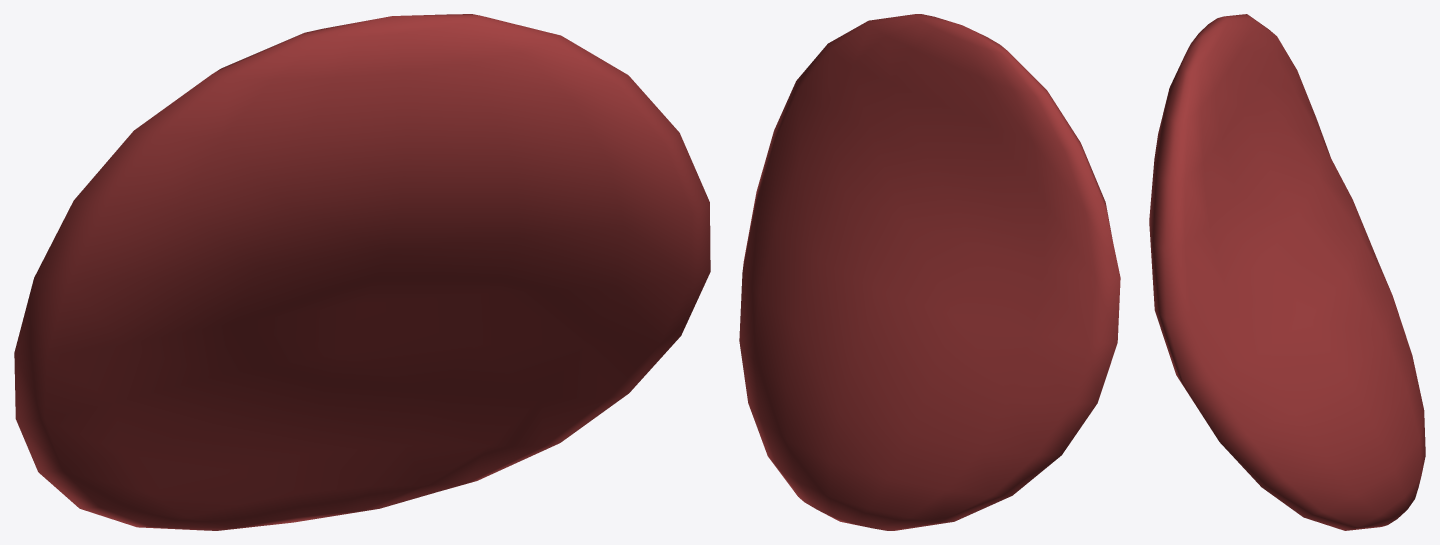
File: subtendinous-bursa-of-triceps-brachii-muscle-r.glb
3 views of the same model, side by side, from view 1: azimuth 30°, elevation 25°; view 2: azimuth 150°, elevation 25°; view 3: azimuth 270°, elevation 25° (orthographic). The views are drawn at different scales.
Visible parts, largest first — view 1: Subtendinous bursa of triceps brachii muscle.r; view 2: Subtendinous bursa of triceps brachii muscle.r; view 3: Subtendinous bursa of triceps brachii muscle.r.
Part boxes in pixels (x1,y1,x2,y2): Subtendinous bursa of triceps brachii muscle.r: (14, 14, 710, 530); Subtendinous bursa of triceps brachii muscle.r: (739, 14, 1120, 530); Subtendinous bursa of triceps brachii muscle.r: (1149, 14, 1425, 530).
Size of the model in its own units: 0.0313 by 0.0304 by 0.0167.
